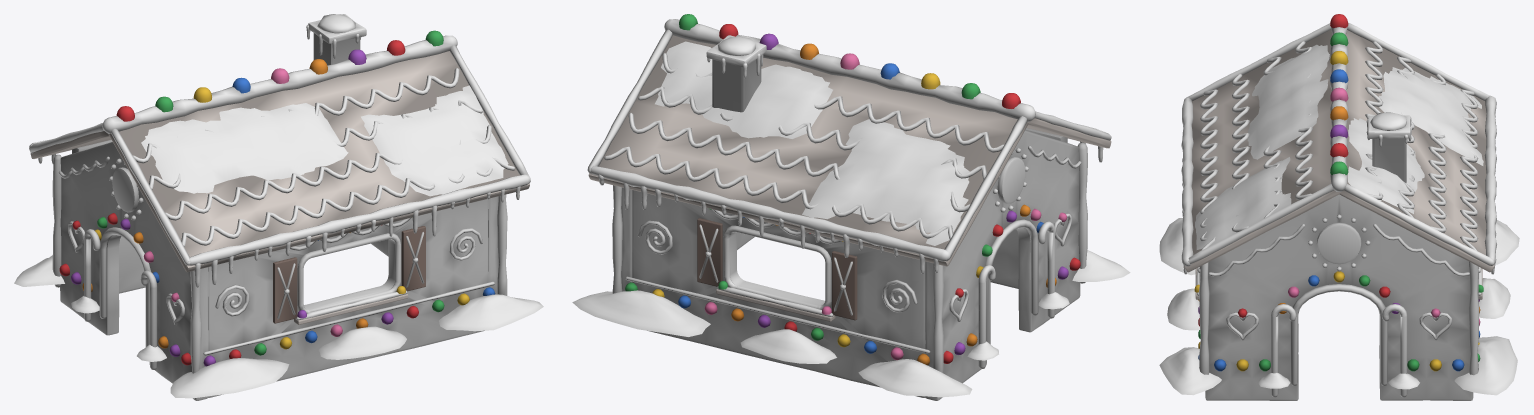
Rendered from gingerbread.glb.
3 renders of one model, left to right at view 1: azimuth 30°, elevation 25°; view 2: azimuth 150°, elevation 25°; view 3: azimuth 270°, elevation 25°, orthographic. The views are drawn at different scales.
Visible parts, largest first — view 1: gingerbread_gingerbread, gingerbread_snow, gingerbread_icing, gingerbread_gumdrop, gingerbread_candy, gingerbread_mint; view 2: gingerbread_gingerbread, gingerbread_icing, gingerbread_snow, gingerbread_gumdrop, gingerbread_candy, gingerbread_mint; view 3: gingerbread_gingerbread, gingerbread_snow, gingerbread_icing, gingerbread_gumdrop, gingerbread_candy, gingerbread_mint.
Boxes of the visible parts, x1,y1,x2,y2 form: gingerbread_gingerbread: (30,33,529,400); gingerbread_snow: (14,14,543,398); gingerbread_icing: (29,14,530,373); gingerbread_gumdrop: (59,30,495,366); gingerbread_candy: (84,229,157,369); gingerbread_mint: (112,167,138,212); gingerbread_gingerbread: (588,35,1111,400); gingerbread_icing: (587,19,1111,372); gingerbread_snow: (572,36,1130,397); gingerbread_gumdrop: (625,14,1080,365); gingerbread_candy: (978,221,1054,368); gingerbread_mint: (997,157,1025,203); gingerbread_gingerbread: (1184,29,1494,400); gingerbread_snow: (1159,44,1519,395); gingerbread_icing: (1181,22,1496,385); gingerbread_gumdrop: (1194,14,1483,371); gingerbread_candy: (1271,304,1407,397); gingerbread_mint: (1316,222,1361,264).
Bounding box in the file's own units: 8.87 × 5.83 × 7.54.
